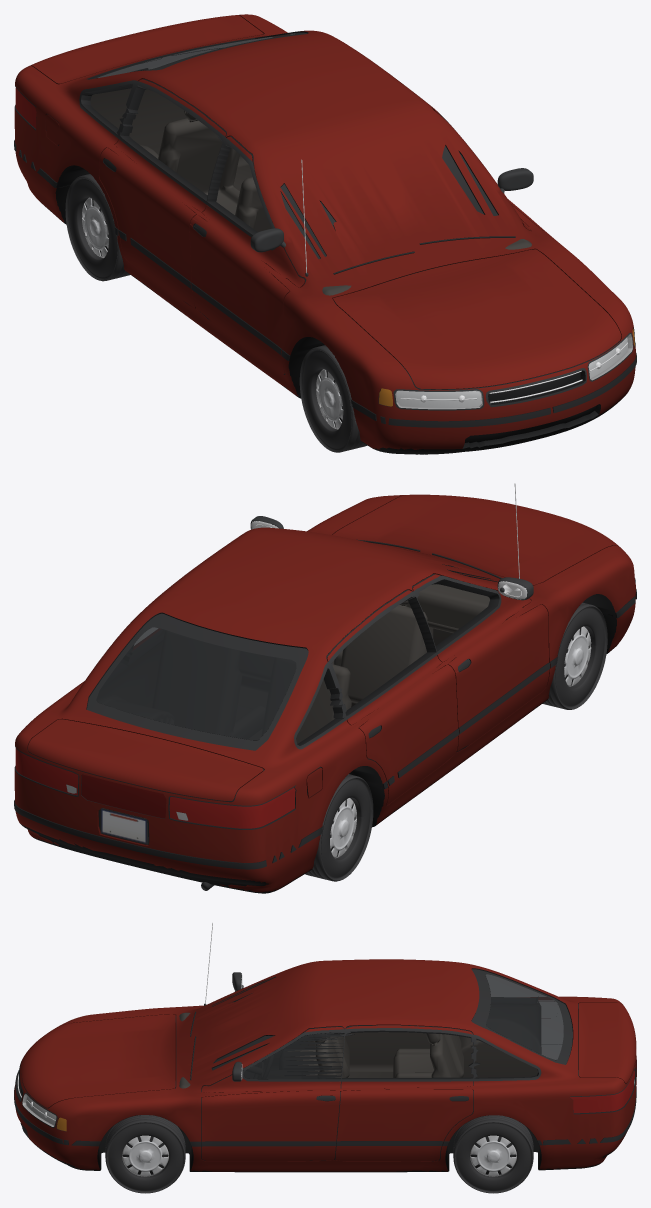
File: car_hero.glb
The picture shows the model from 3 angles, top to bottom: view 1: azimuth 30°, elevation 25°; view 2: azimuth 150°, elevation 25°; view 3: azimuth 270°, elevation 25°; orthographic projection. The views are drawn at different scales.
Parts seen in each view (by area): view 1: body, wheel_FR, wheel_RR; view 2: body, wheel_RR, wheel_FR; view 3: body, wheel_FL, wheel_RL.
Boxes of the visible parts, x1,y1,x2,y2 form: body: (14,14,636,454); wheel_FR: (299,345,367,452); wheel_RR: (65,174,130,281); body: (14,483,636,893); wheel_RR: (305,774,373,881); wheel_FR: (542,602,607,709); body: (14,923,636,1172); wheel_FL: (105,1115,185,1193); wheel_RL: (453,1115,533,1193).
Bounding box in the file's own units: 1.88 × 1.62 × 4.91.
Materials: 12 (1 with a texture image).
